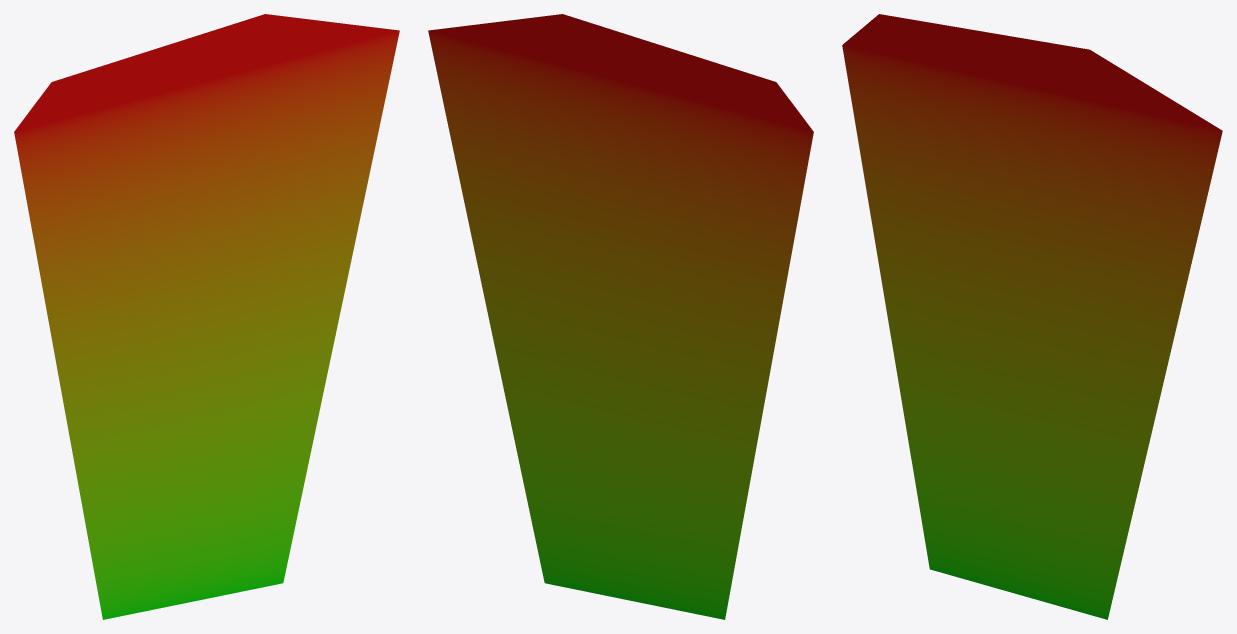
Rendered from Softstem Bulrush_LOD3_Var5_uehjcafia.fbx.
3 views of the same model, side by side, from view 1: azimuth 30°, elevation 25°; view 2: azimuth 150°, elevation 25°; view 3: azimuth 330°, elevation 25° (orthographic).
Visible parts, largest first — view 1: _e849_Var5_LOD3; view 2: _e849_Var5_LOD3; view 3: _e849_Var5_LOD3.
Part boxes in pixels (<box>): _e849_Var5_LOD3: <box>14,14,399,619</box>; _e849_Var5_LOD3: <box>428,14,813,619</box>; _e849_Var5_LOD3: <box>842,14,1222,619</box>.
Bounding box in the file's own units: 102 × 146 × 2.57e-05.
